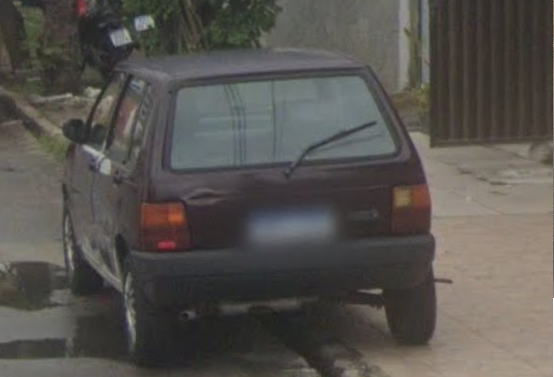car: (57, 49, 447, 363)
